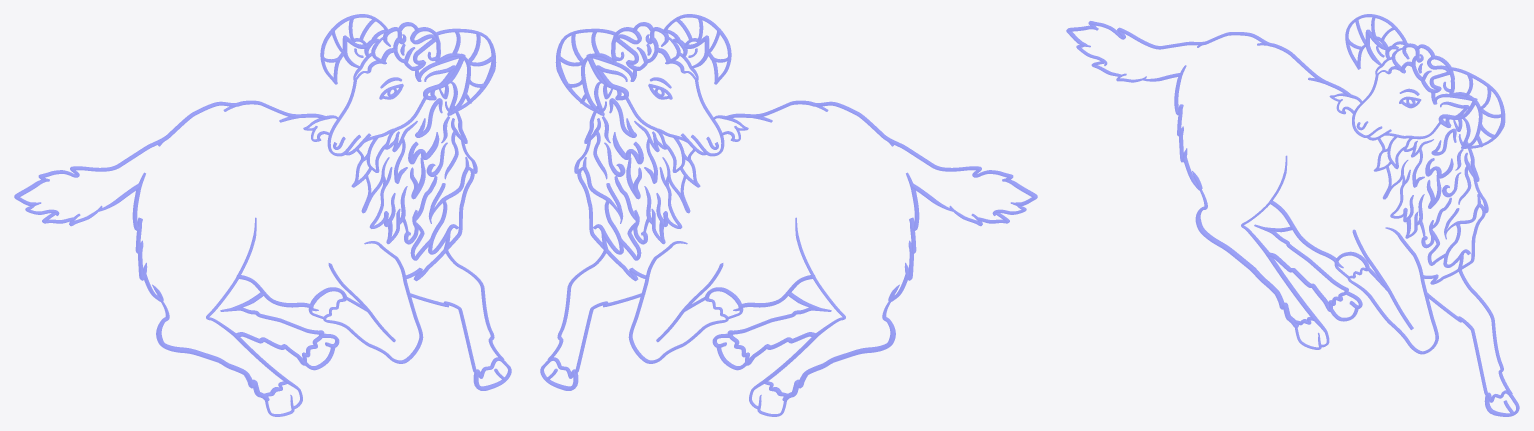
Rendered from aries line blue.glb.
3 renders of one model, left to right at view 1: azimuth 30°, elevation 25°; view 2: azimuth 150°, elevation 25°; view 3: azimuth 330°, elevation 25°, orthographic. The views are drawn at different scales.
Parts seen in each view (by area): view 1: BezierCurve.001; view 2: BezierCurve.001; view 3: BezierCurve.001.
Boxes of the visible parts, x1,y1,x2,y2 form: BezierCurve.001: (14,14,511,416); BezierCurve.001: (540,14,1037,416); BezierCurve.001: (1066,14,1519,416).
Size of the model in its own units: 4.41 by 3.46 by 0.0549.
